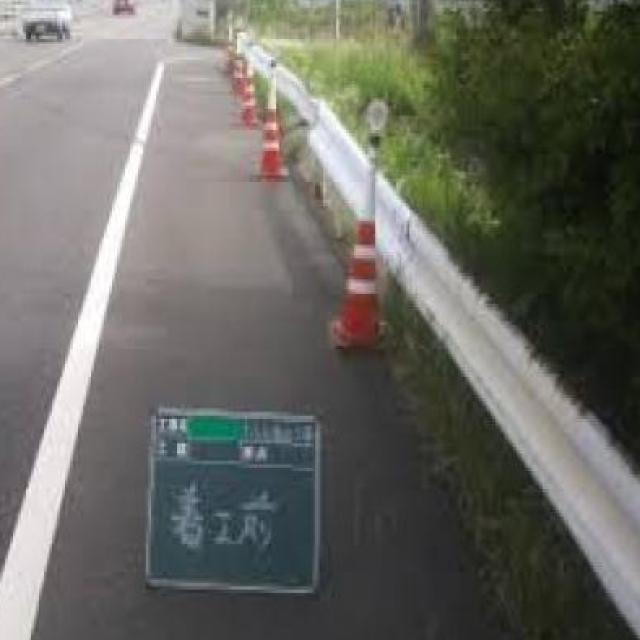Guard rail: (232, 22, 639, 640)
